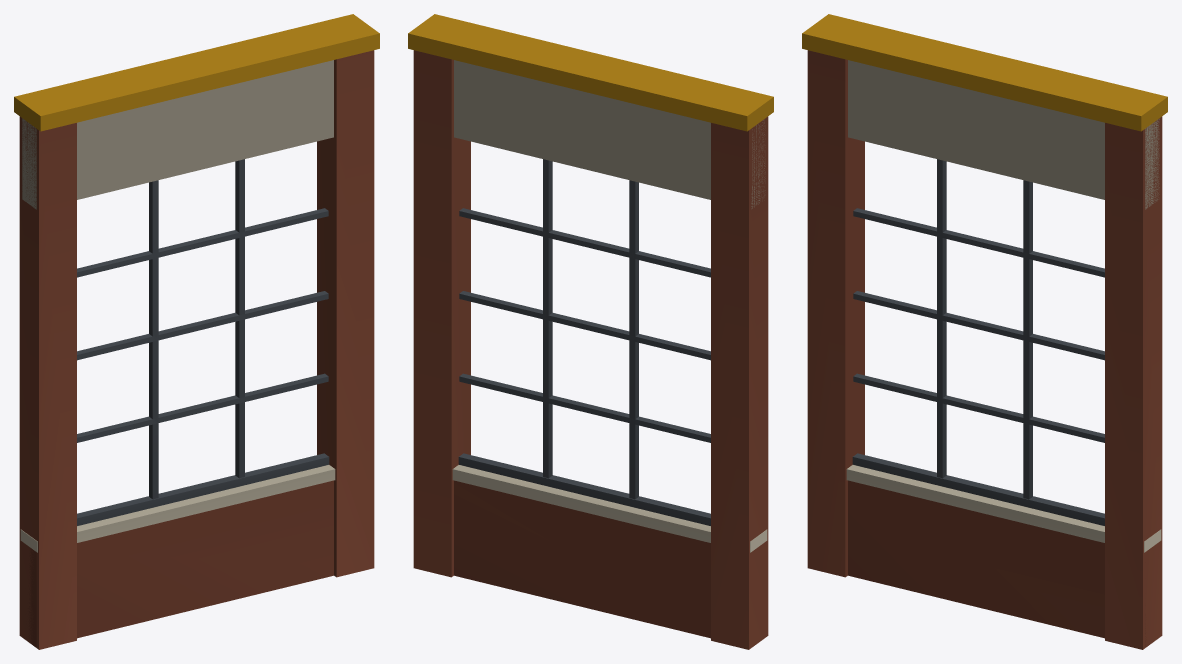
Rendered from prop.honey_wall.lod1.glb.
The picture shows the model from 3 angles, left to right: view 1: azimuth 30°, elevation 25°; view 2: azimuth 150°, elevation 25°; view 3: azimuth 330°, elevation 25°; orthographic projection.
Parts seen in each view (by area): view 1: honey_wall; view 2: honey_wall; view 3: honey_wall.
Boxes of the visible parts, <box> form: honey_wall: <box>14,14,379,649</box>; honey_wall: <box>408,14,773,649</box>; honey_wall: <box>802,14,1167,649</box>.
Bounding box in the file's own units: 8.1 × 12.25 × 1.1.
